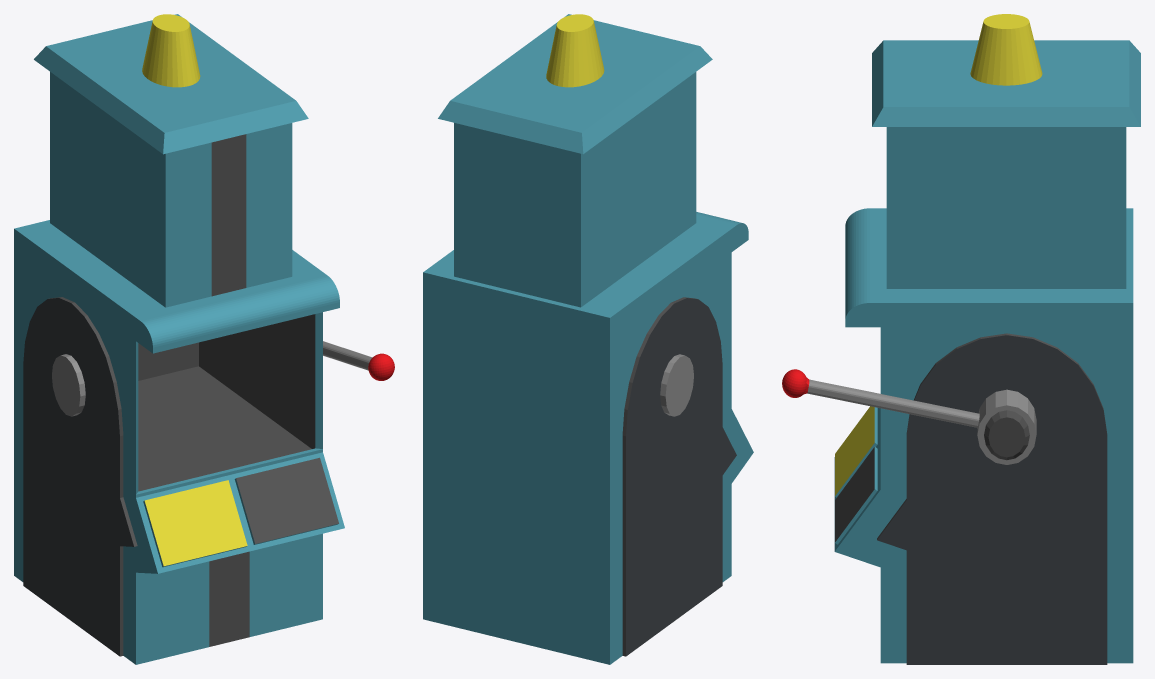
File: MacchinarioZip.fbx
3 views of the same model, side by side, from view 1: azimuth 30°, elevation 25°; view 2: azimuth 150°, elevation 25°; view 3: azimuth 270°, elevation 25° (orthographic). The views are drawn at different scales.
Parts seen in each view (by area): view 1: Cube, Cube.001, Cube.002; view 2: Cube, Cube.001; view 3: Cube, Cube.001, Cube.002.
Boxes of the visible parts, <box> form: Cube: <box>14,220,344,664</box>; Cube.001: <box>34,14,308,307</box>; Cube.002: <box>323,341,394,380</box>; Cube: <box>423,212,753,664</box>; Cube.001: <box>438,14,712,307</box>; Cube: <box>834,208,1133,664</box>; Cube.001: <box>872,14,1140,288</box>; Cube.002: <box>782,369,1036,464</box>.
Bounding box in the file's own units: 141 × 330 × 180.
